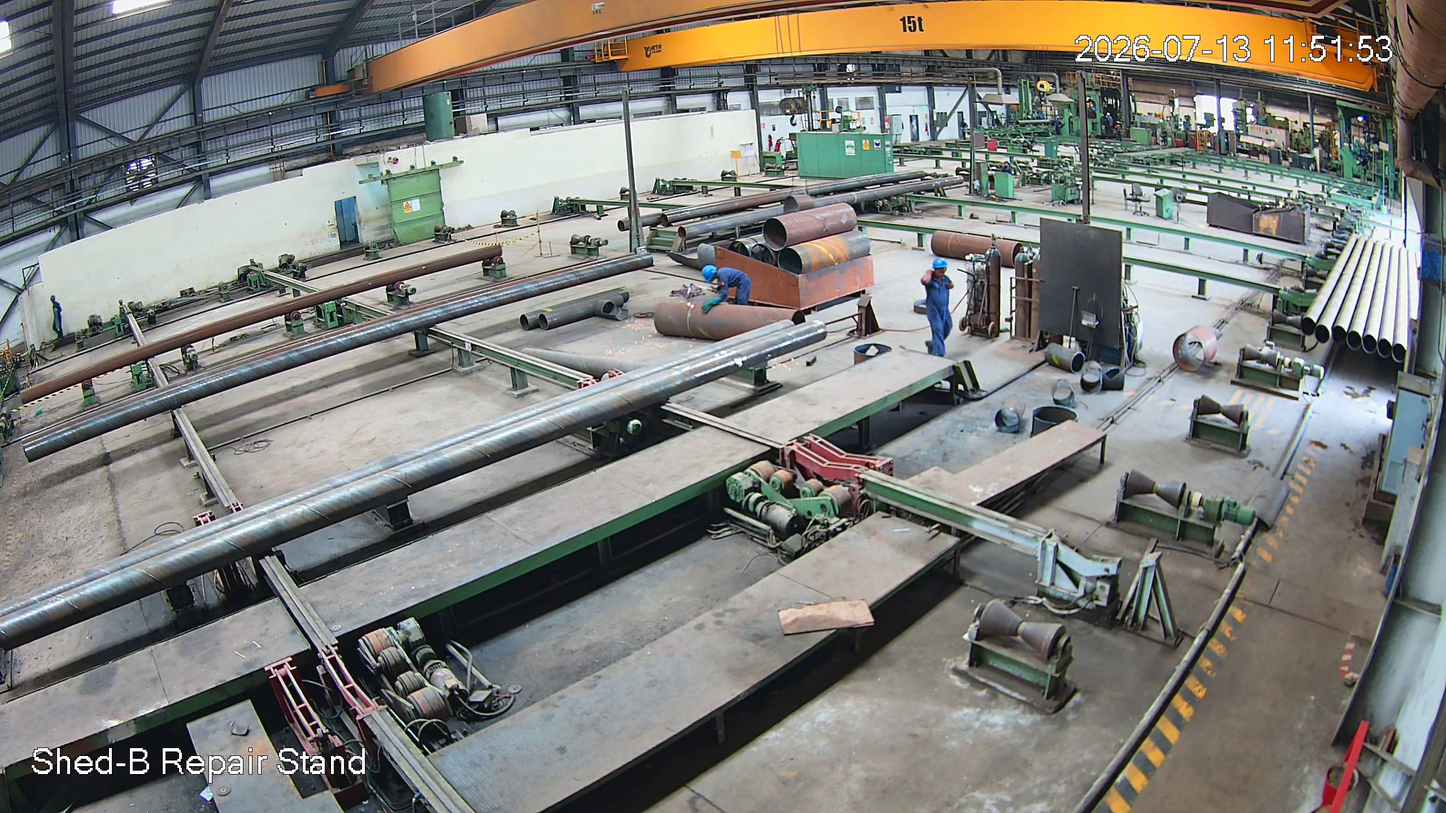Helmet: (701, 265, 725, 285), (932, 256, 951, 279)
Person: (923, 260, 954, 356), (700, 266, 749, 308)
